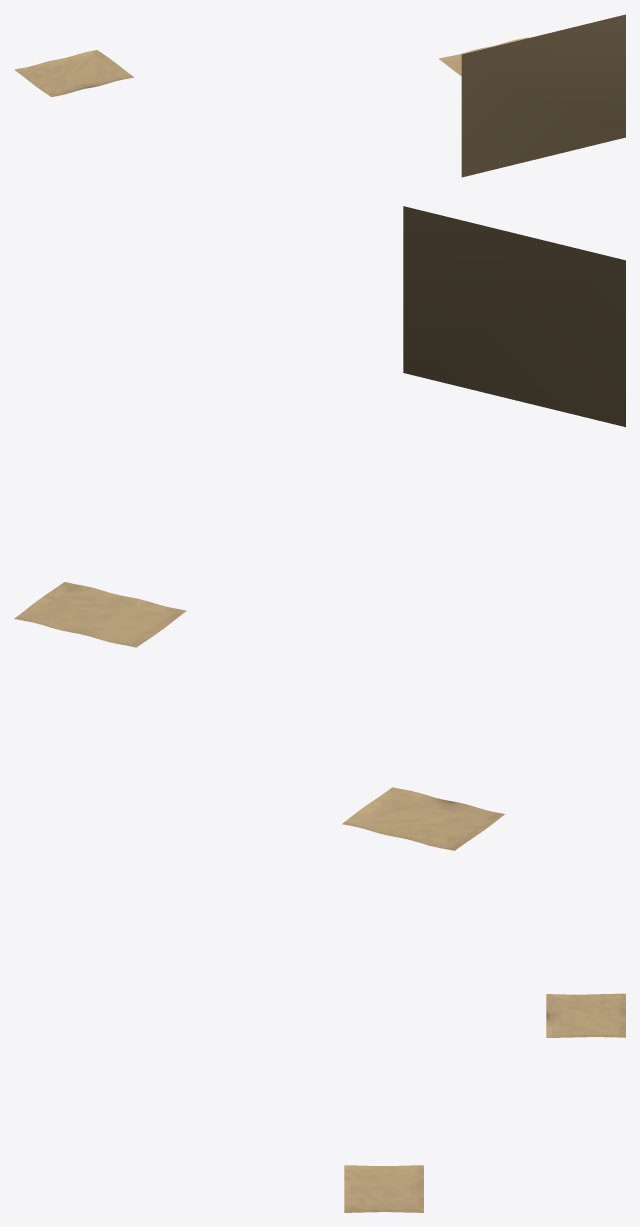
Rendered from StudyMaps.fbx.
3 renders of one model, top to bottom at view 1: azimuth 30°, elevation 25°; view 2: azimuth 150°, elevation 25°; view 3: azimuth 270°, elevation 25°, orthographic. The views are drawn at different scales.
Parts seen in each view (by area): view 1: StudyMaps; view 2: StudyMaps; view 3: StudyMaps.
Part boxes in pixels (box(x1,y1,x2,y2)): StudyMaps: box(14, 14, 625, 177); StudyMaps: box(14, 206, 625, 850); StudyMaps: box(344, 993, 625, 1212).
Bounding box in the file's own units: 1815 × 774 × 2150.
